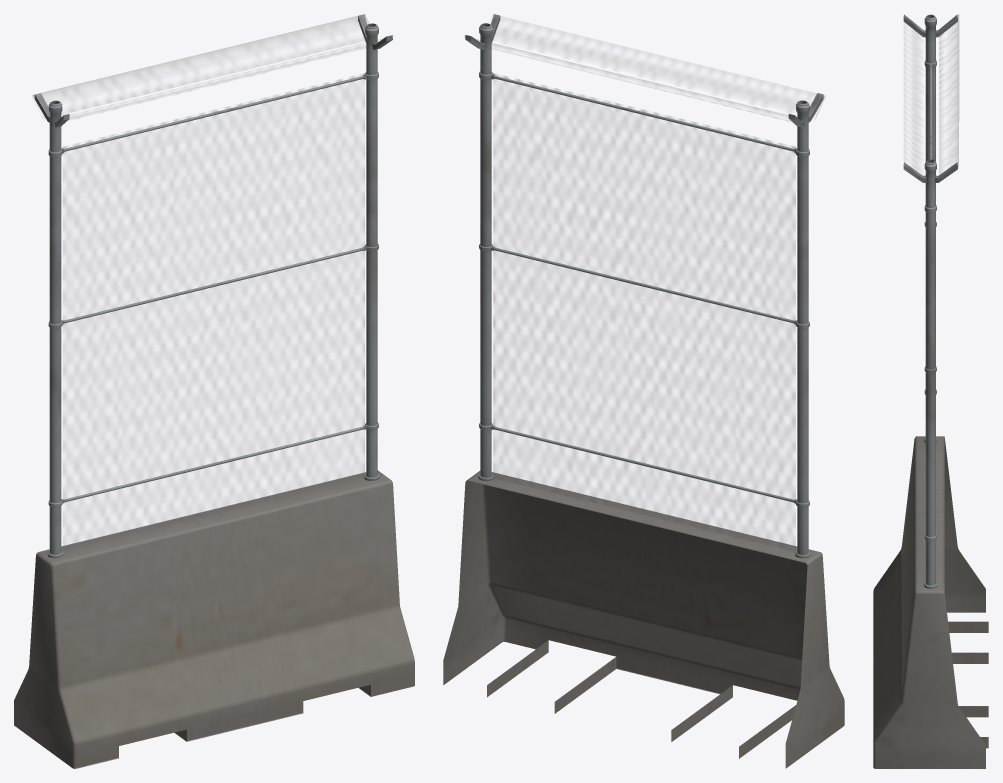
File: impassable_barrier.glb
3 views of the same model, side by side, from view 1: azimuth 30°, elevation 25°; view 2: azimuth 150°, elevation 25°; view 3: azimuth 270°, elevation 25° (orthographic). The views are drawn at different scales.
Parts seen in each view (by area): view 1: wall3; view 2: wall3; view 3: wall3.
Part boxes in pixels (<box>): wall3: <box>14,14,414,768</box>; wall3: <box>443,14,844,768</box>; wall3: <box>873,14,988,768</box>.
Size of the model in its own units: 1.39 by 2.5 by 0.434.
Materials: 1 (1 with a texture image).
